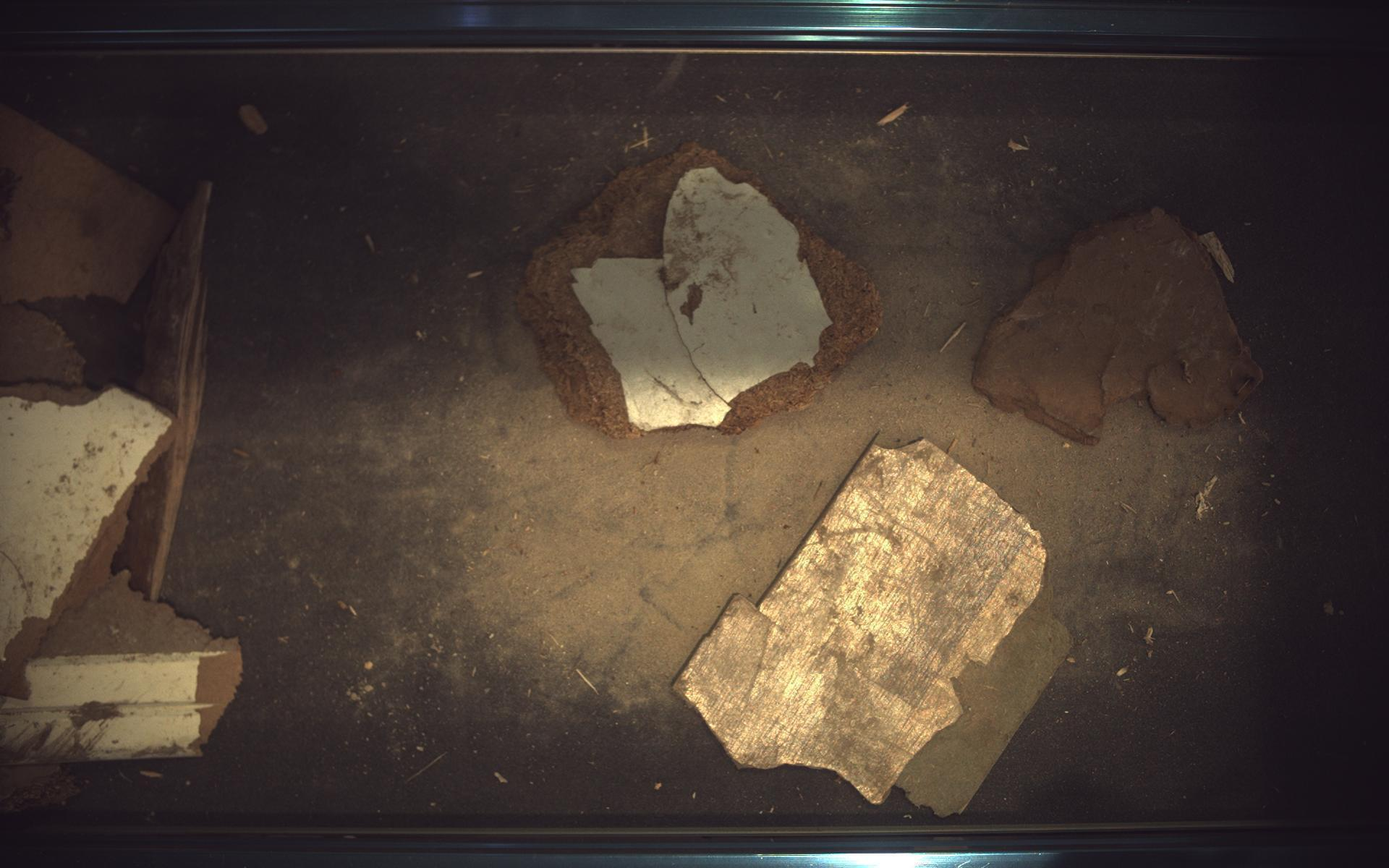wood: (675, 440, 1072, 815), (519, 142, 883, 438), (974, 207, 1266, 445)
